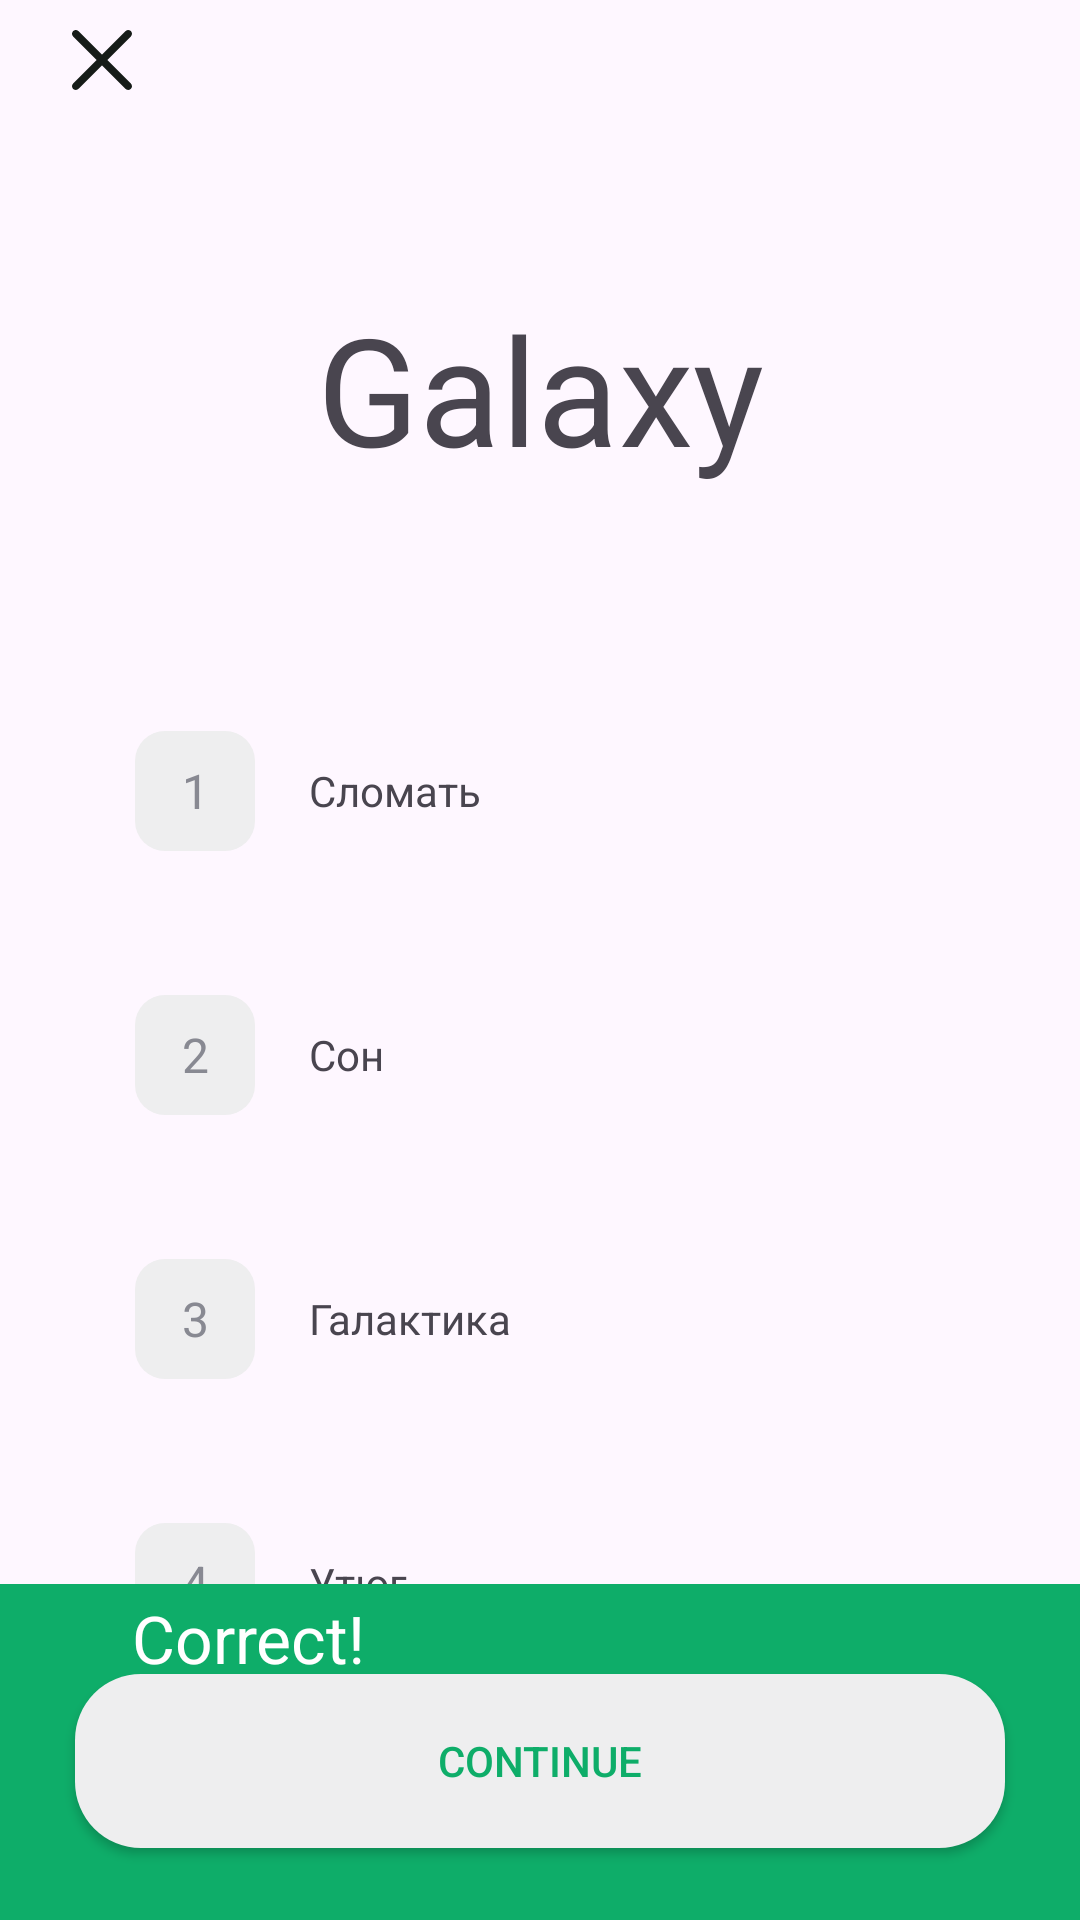

Named icons in this screenshot (1080x1920) and their centers, [x,y]:
close: [102,60]
